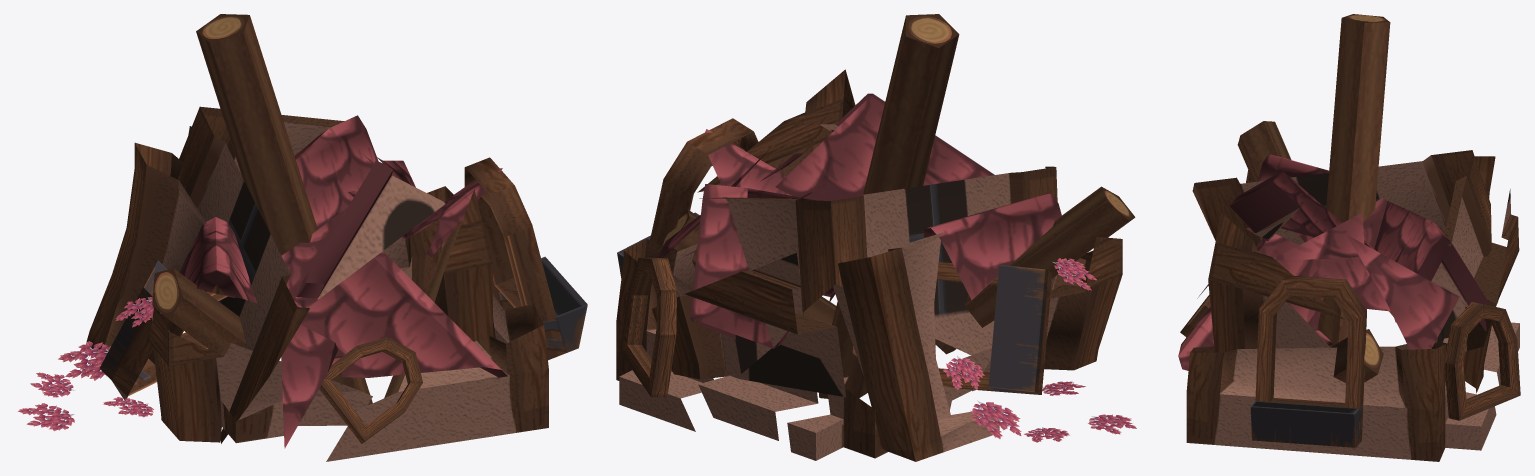
Rendered from House7Pile.fbx.
3 renders of one model, left to right at view 1: azimuth 30°, elevation 25°; view 2: azimuth 150°, elevation 25°; view 3: azimuth 270°, elevation 25°, orthographic. The views are drawn at different scales.
Parts seen in each view (by area): view 1: Pile1; view 2: Pile1; view 3: Pile1.
Boxes of the visible parts, <box> form: Pile1: <box>17,14,587,461</box>; Pile1: <box>616,14,1136,461</box>; Pile1: <box>1178,14,1520,461</box>.
Size of the model in its own units: 35.44 by 27.12 by 23.33.
